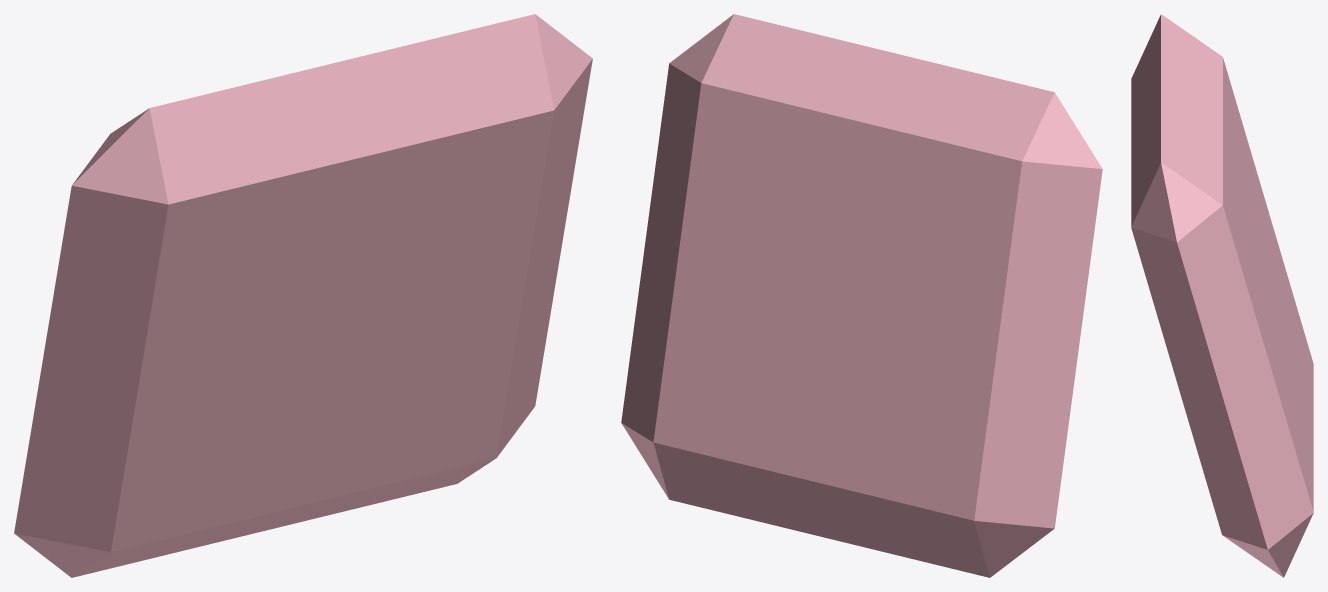
The model's file is furn_floorcushion.glb.
3 renders of one model, left to right at view 1: azimuth 30°, elevation 25°; view 2: azimuth 150°, elevation 25°; view 3: azimuth 270°, elevation 25°, orthographic. The views are drawn at different scales.
Parts seen in each view (by area): view 1: floorcushion; view 2: floorcushion; view 3: floorcushion.
Part boxes in pixels (x1,y1,x2,y2): floorcushion: [14, 14, 592, 577]; floorcushion: [621, 14, 1102, 577]; floorcushion: [1131, 14, 1313, 577].
Bounding box in the file's own units: 0.4141 × 0.4 × 0.1593.
